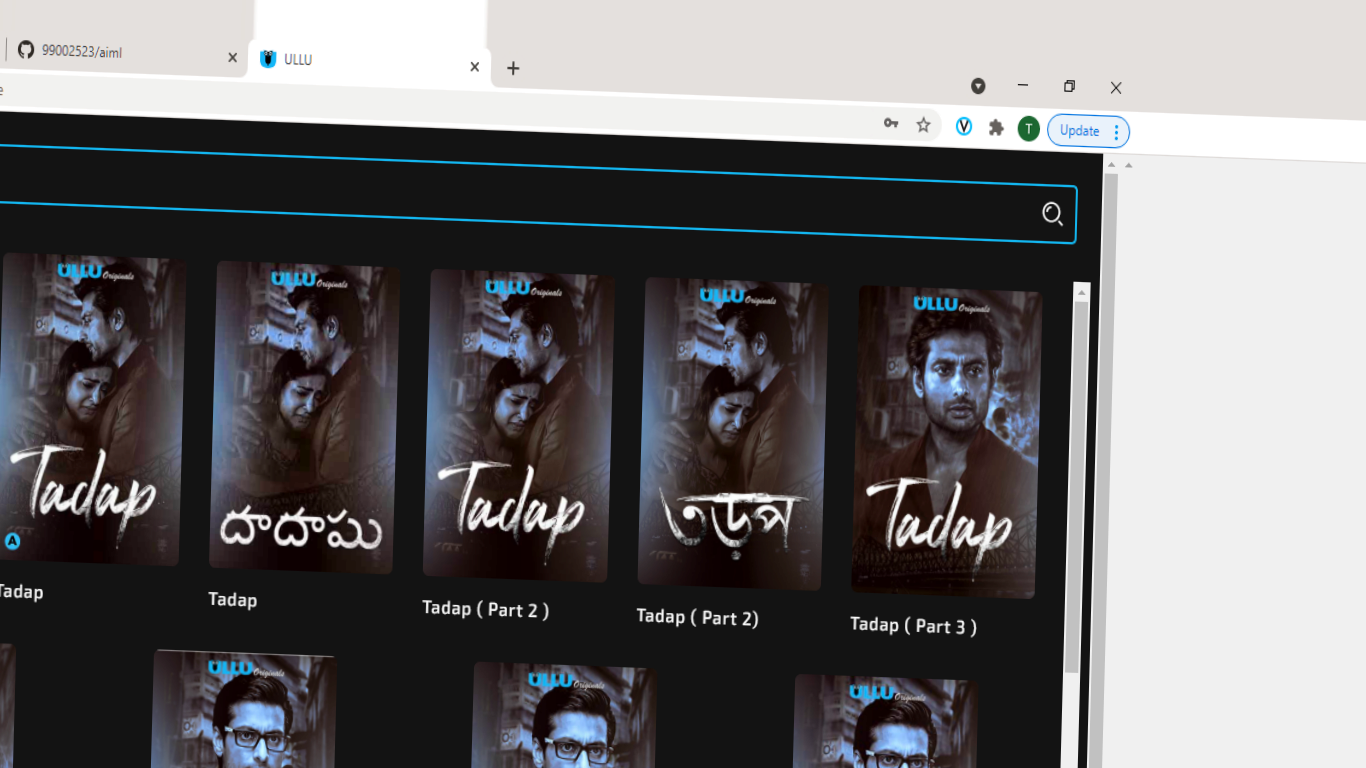searchicon: (1029, 183, 1074, 234)
searchtextbox: (1, 118, 1089, 252)
